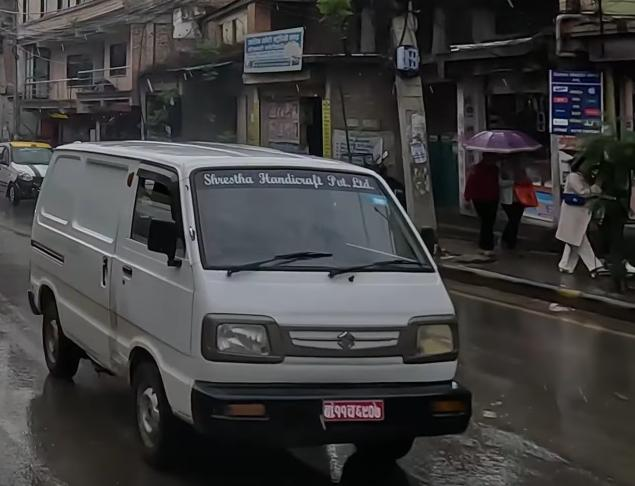taxi: (0, 135, 61, 205)
van: (21, 137, 481, 468)
